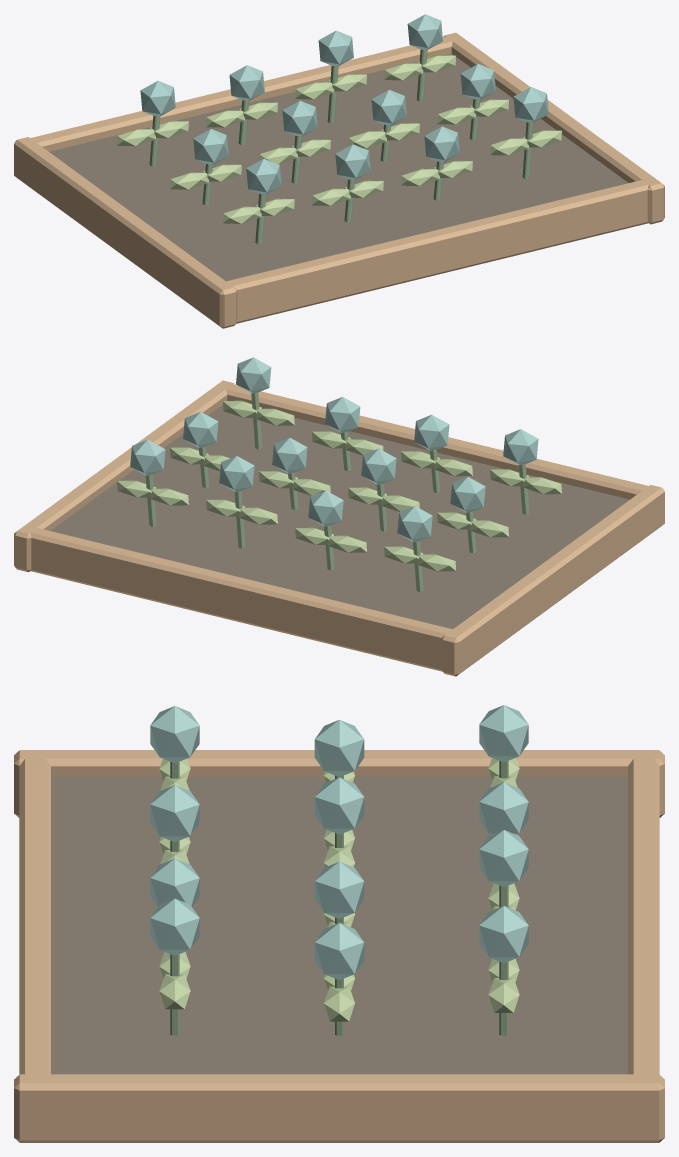
File: herb_garden.fbx
3 views of the same model, one above another, from view 1: azimuth 30°, elevation 25°; view 2: azimuth 150°, elevation 25°; view 3: azimuth 270°, elevation 25° (orthographic). The views are drawn at different scales.
Parts seen in each view (by area): view 1: herb_garden_mesh; view 2: herb_garden_mesh; view 3: herb_garden_mesh.
Boxes of the visible parts, box(x1,y1,x2,y2) form: herb_garden_mesh: box(14, 14, 664, 328); herb_garden_mesh: box(14, 357, 664, 676); herb_garden_mesh: box(14, 705, 664, 1142).
Bounding box in the file's own units: 3.02 × 0.7839 × 2.46.
